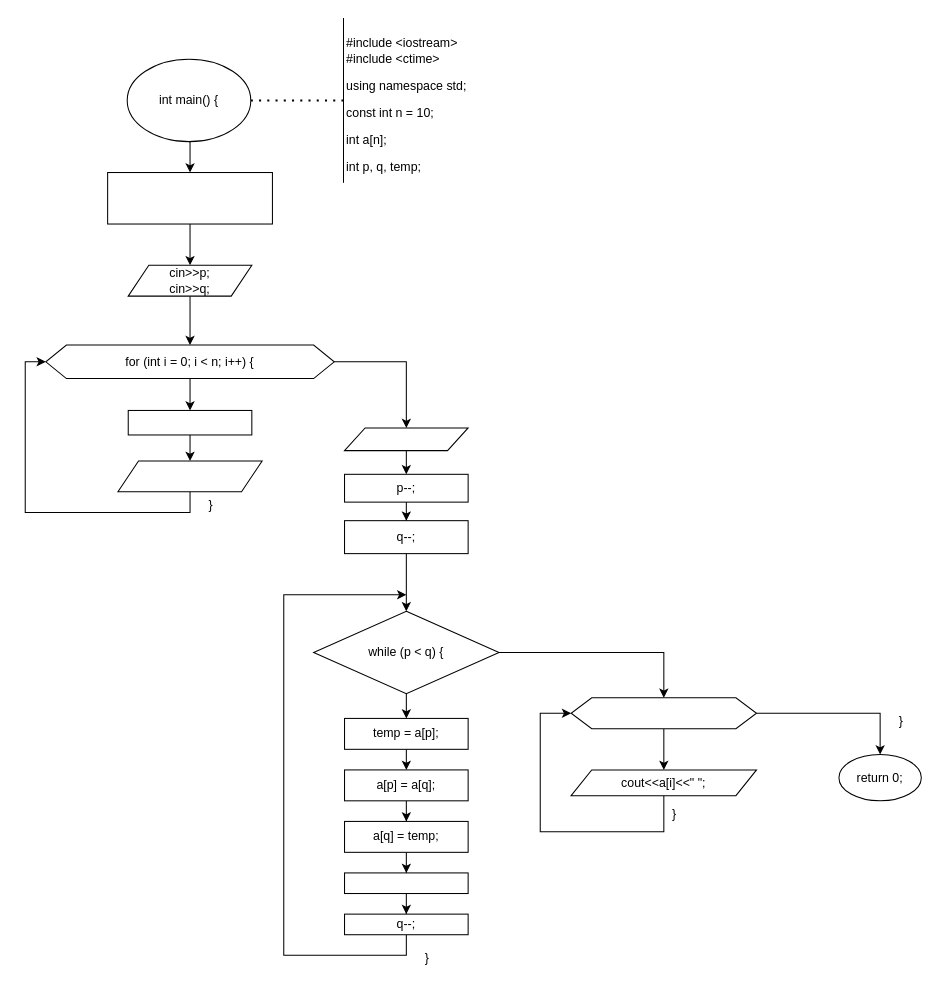
This 939x992 diagram has some shape labels left out. The shapes that lost their labels are listed below. From the top down, each one's box as (x1, y1, x2, y2) in pixels, then its label:
(107, 171, 272, 224): srand(time(NULL)); setlocale(LC_ALL, "RU";
(127, 409, 252, 435): a[i] = rand() % 10;
(344, 427, 468, 451): cout<<endl;
(117, 460, 262, 492): cout<<a[i] <<" ";
(570, 697, 757, 729): for (int i = 0; i n; i++) {
(344, 872, 468, 894): p++;
